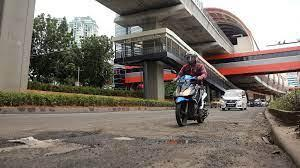Pothole: (0, 120, 139, 163), (128, 122, 206, 154)
